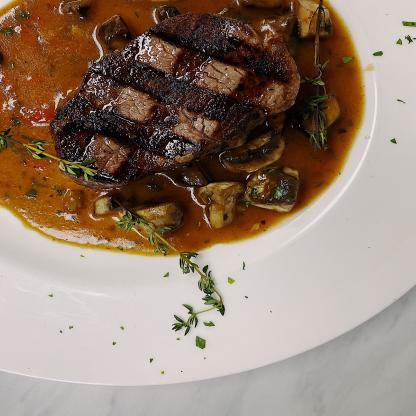Carne: (56, 17, 297, 194)
